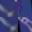sword: (0, 0, 18, 17), (0, 17, 18, 32)
